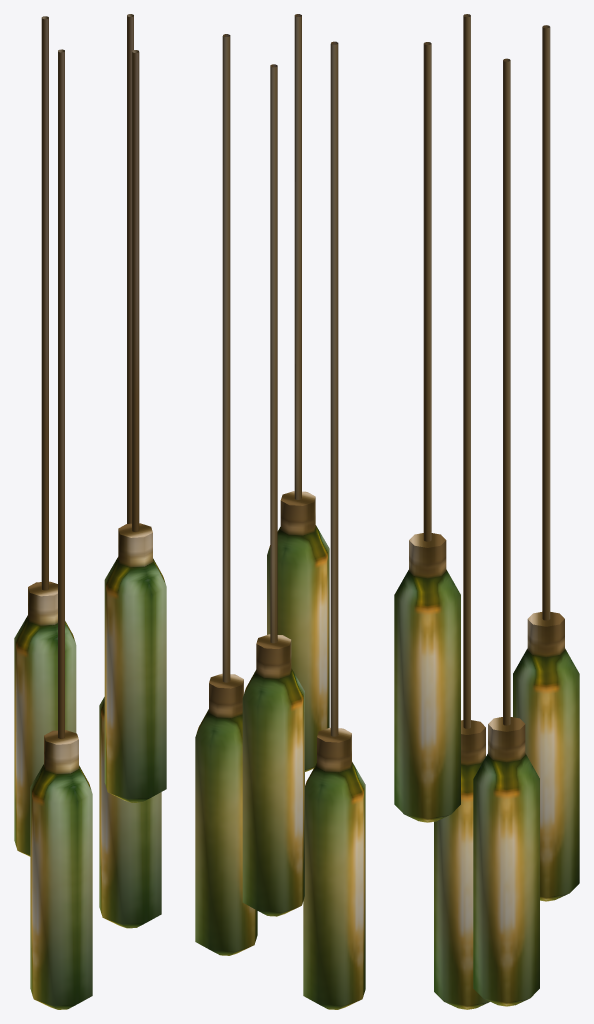
The model's file is hanging_light_bunch.fbx.
3 views of the same model, side by side, from view 1: azimuth 30°, elevation 25°; view 2: azimuth 150°, elevation 25°; view 3: azimuth 270°, elevation 25° (orthographic). The views are drawn at different scales.
Parts seen in each view (by area): view 1: hanging_light_bunch; view 2: hanging_light_bunch; view 3: hanging_light_bunch.
Boxes of the visible parts, left/top/right/bottom form: hanging_light_bunch: left=14, top=14, right=166, bottom=1009; hanging_light_bunch: left=195, top=14, right=365, bottom=1009; hanging_light_bunch: left=394, top=14, right=579, bottom=1009.
Size of the model in its own units: 13.05 by 82.8 by 14.05.
